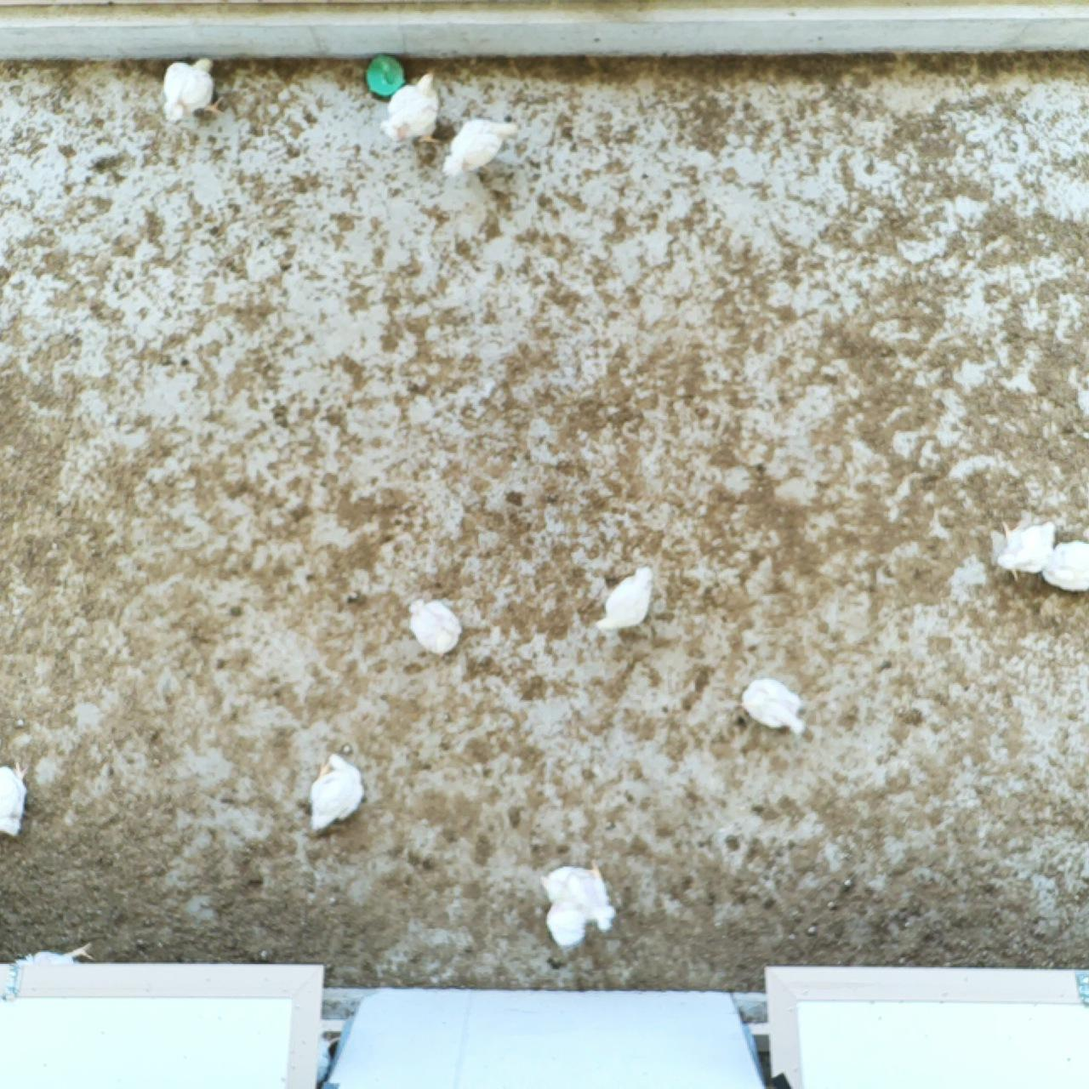chicken: (538, 858, 618, 953), (377, 65, 446, 153), (304, 748, 369, 839), (439, 115, 522, 180), (597, 560, 659, 639), (738, 671, 810, 739), (160, 52, 225, 126), (403, 594, 471, 663), (994, 519, 1056, 585), (1035, 533, 1089, 596), (3, 941, 99, 974), (0, 754, 36, 841)
